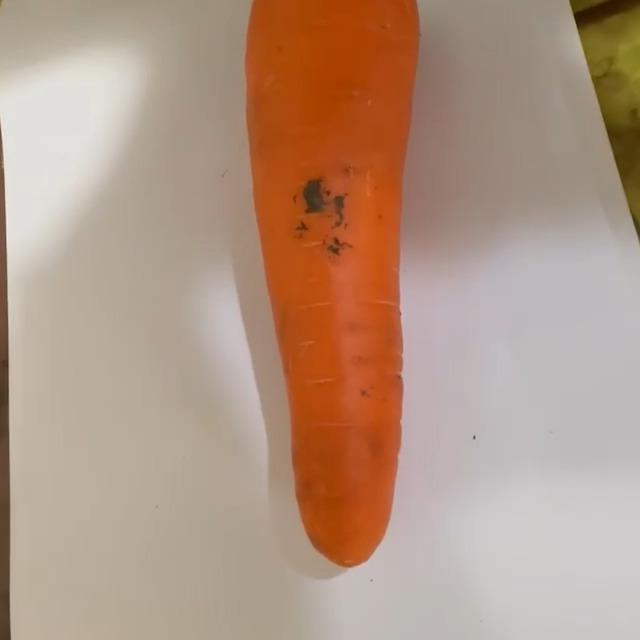carrot: (244, 1, 424, 568)
